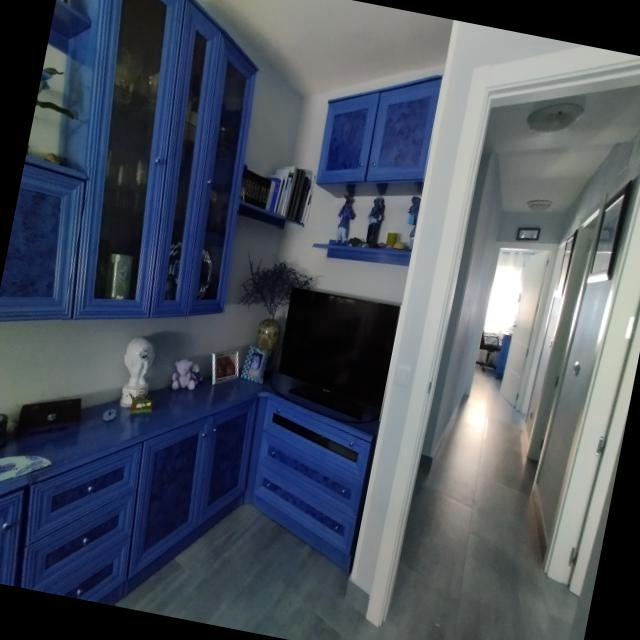book: (241, 170, 310, 223)
bookshelf: (313, 241, 411, 268), (240, 201, 303, 229), (51, 0, 92, 41)
cabinet: (53, 0, 258, 320), (124, 399, 257, 596), (241, 393, 373, 572), (0, 443, 142, 602), (0, 379, 261, 462), (316, 76, 443, 199), (0, 155, 86, 323), (495, 335, 511, 375)
chair: (480, 332, 499, 354), (477, 354, 495, 371)
monitor: (276, 290, 400, 417)
